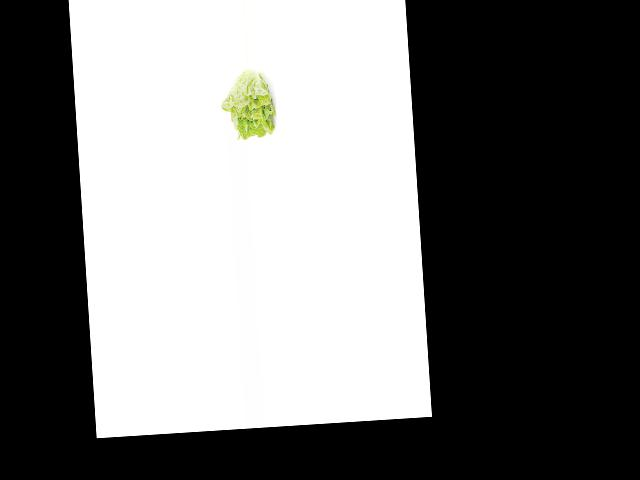lettuce: (220, 68, 281, 140)
